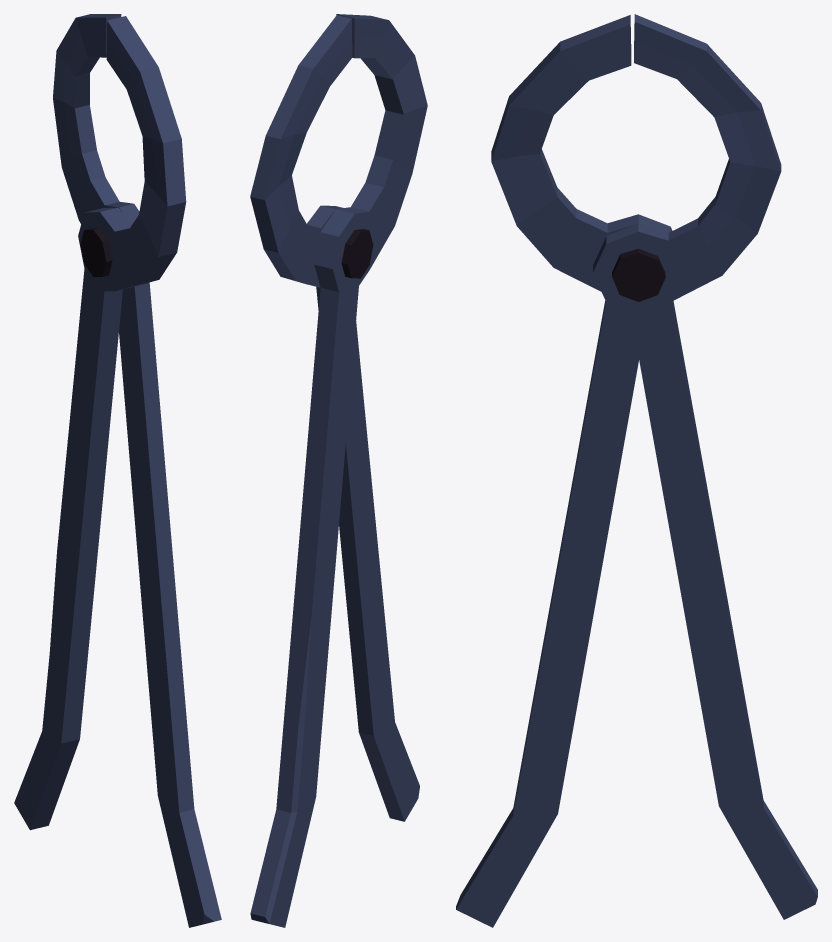
Rendered from PIncers_01.fbx.
The picture shows the model from 3 angles, left to right: view 1: azimuth 30°, elevation 25°; view 2: azimuth 150°, elevation 25°; view 3: azimuth 270°, elevation 25°; orthographic projection. The views are drawn at different scales.
Visible parts, largest first — view 1: PoorMan Pincers_01, PoorMan Pincers_01_Arm; view 2: PoorMan Pincers_01, PoorMan Pincers_01_Arm; view 3: PoorMan Pincers_01_Arm, PoorMan Pincers_01.
Part boxes in pixels (x1=…): PoorMan Pincers_01: x1=14, y1=16, x2=186, y2=830; PoorMan Pincers_01_Arm: x1=53, y1=14, x2=221, y2=927; PoorMan Pincers_01: x1=250, y1=14, x2=427, y2=927; PoorMan Pincers_01_Arm: x1=250, y1=15, x2=419, y2=821; PoorMan Pincers_01_Arm: x1=456, y1=14, x2=781, y2=927; PoorMan Pincers_01: x1=491, y1=15, x2=817, y2=919.
Size of the model in its own units: 5.07 by 84.98 by 31.
